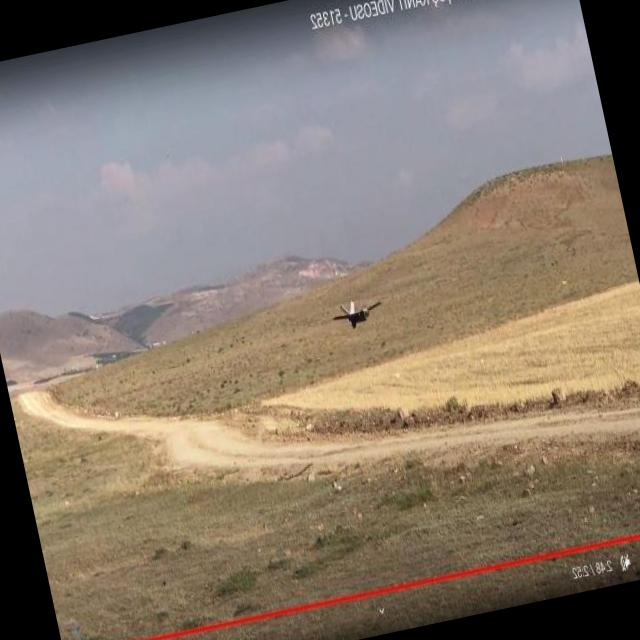UAV: (312, 280, 388, 350)
